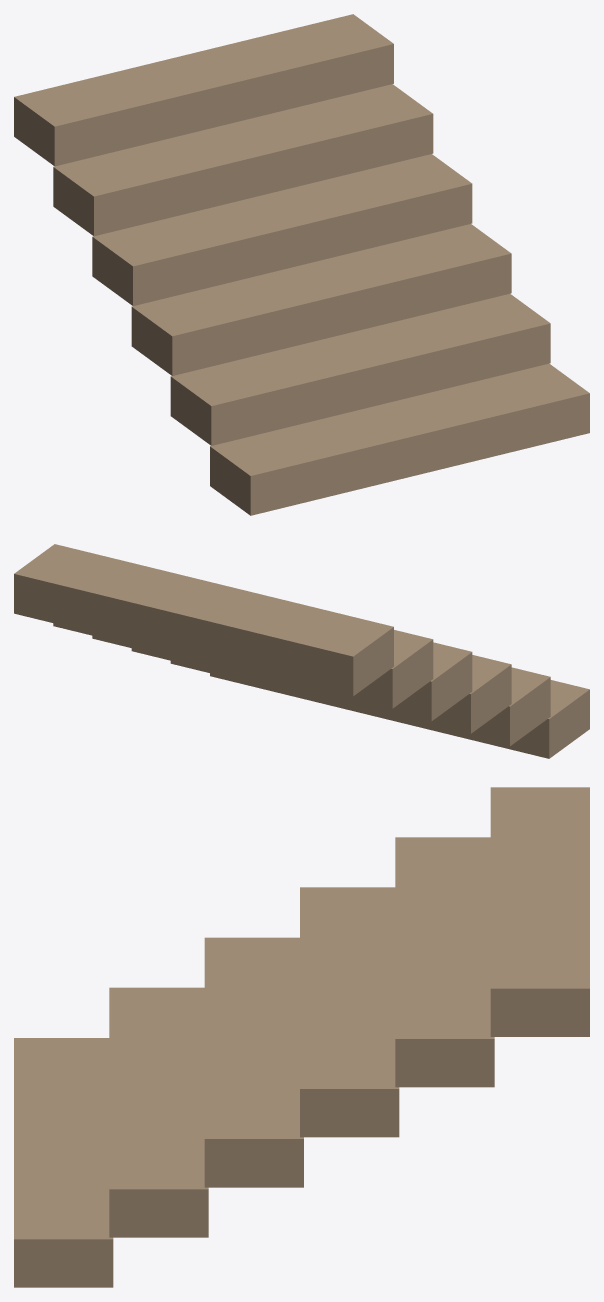
Rendered from escada_madeira.glb.
3 renders of one model, top to bottom at view 1: azimuth 30°, elevation 25°; view 2: azimuth 150°, elevation 25°; view 3: azimuth 270°, elevation 25°, orthographic. The views are drawn at different scales.
Visible parts, largest first — view 1: part_003, part_004, part_001, part_002, part_005, part_000; view 2: part_005, part_003, part_004, part_002, part_001, part_000; view 3: part_005, part_001, part_004, part_002, part_003, part_000.
Part boxes in pixels (x1=…): part_003: x1=92, y1=154, x2=472, y2=306; part_004: x1=53, y1=84, x2=433, y2=236; part_001: x1=170, y1=294, x2=550, y2=445; part_002: x1=131, y1=224, x2=511, y2=375; part_005: x1=14, y1=14, x2=393, y2=166; part_000: x1=210, y1=363, x2=589, y2=515; part_005: x1=14, y1=544, x2=393, y2=696; part_003: x1=92, y1=635, x2=472, y2=721; part_004: x1=53, y1=623, x2=433, y2=708; part_002: x1=131, y1=648, x2=511, y2=733; part_001: x1=170, y1=661, x2=550, y2=746; part_000: x1=210, y1=673, x2=589, y2=758; part_005: x1=490, y1=787, x2=589, y2=1036; part_001: x1=109, y1=987, x2=208, y2=1237; part_004: x1=395, y1=837, x2=494, y2=1087; part_002: x1=204, y1=937, x2=303, y2=1187; part_003: x1=300, y1=887, x2=399, y2=1137; part_000: x1=14, y1=1038, x2=113, y2=1287.
Bounding box in the file's own units: 2.5 × 1.73 × 3.02.
